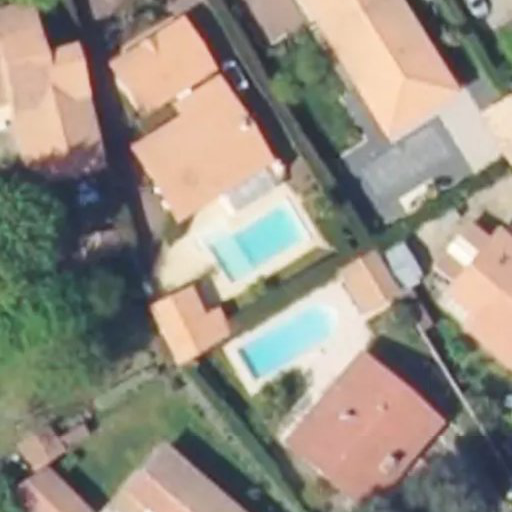pool: (200, 230, 311, 237)
